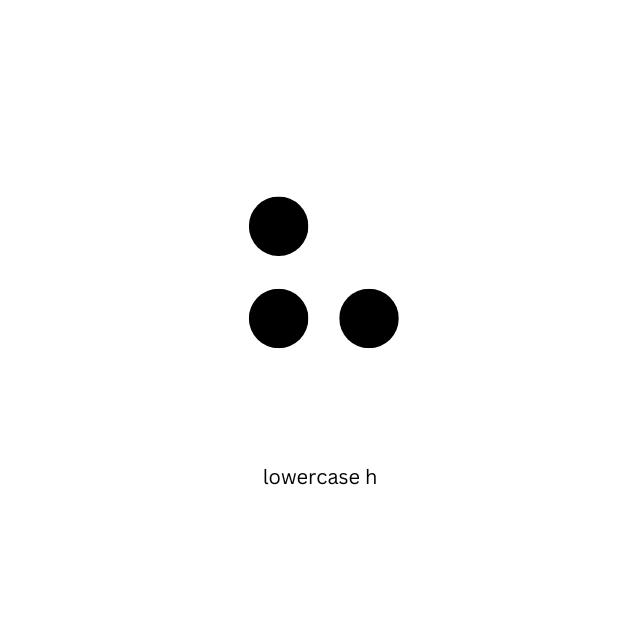letter_h: (248, 193, 400, 448)
